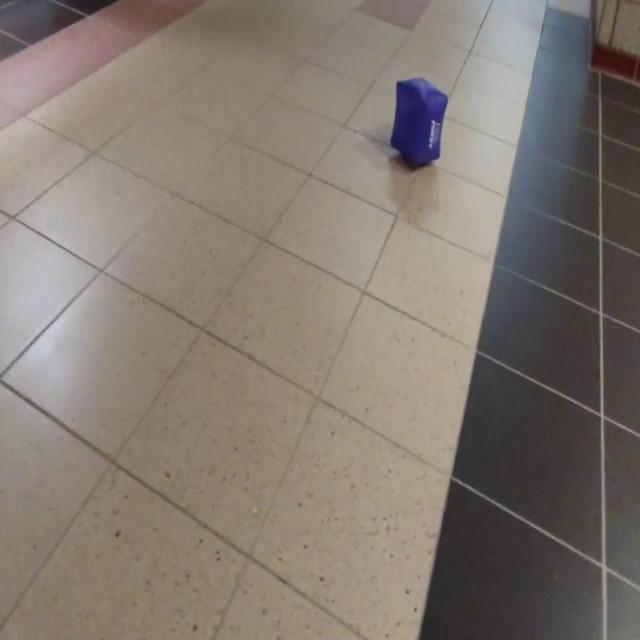frc_cube: (389, 77, 447, 168)
